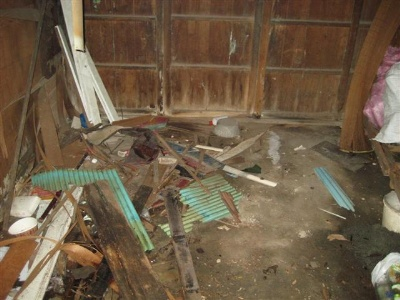bowl: (6, 217, 38, 237), (212, 118, 240, 138)
box: (9, 195, 41, 217)
